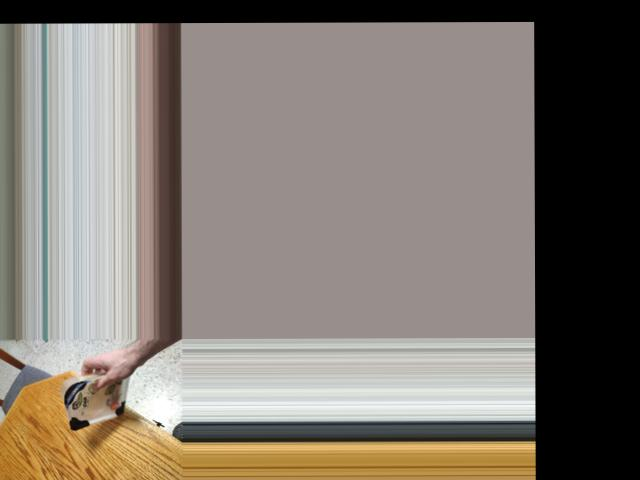cheese: (58, 374, 132, 424)
